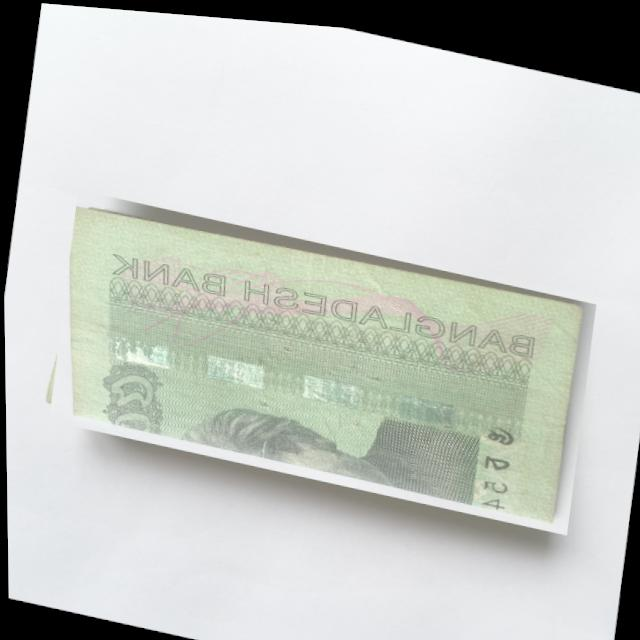Taka: (45, 187, 598, 528)
